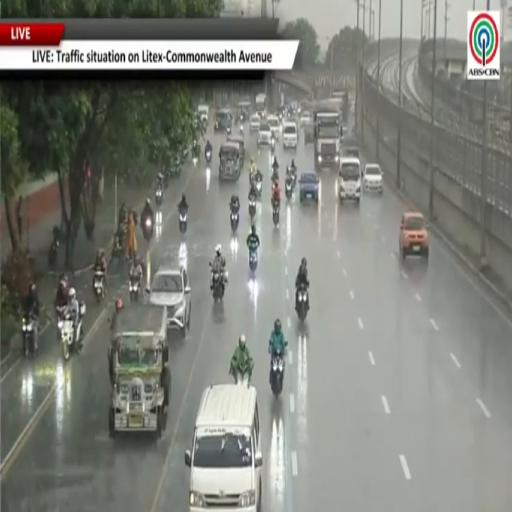car: (185, 383, 264, 511), (150, 266, 191, 337), (399, 212, 428, 260), (338, 158, 362, 204), (299, 171, 319, 203), (363, 164, 383, 194), (283, 122, 297, 149), (258, 121, 272, 146), (267, 116, 280, 140), (304, 125, 314, 144), (250, 114, 260, 133), (300, 110, 311, 125)
jeepney: (109, 303, 170, 437), (219, 142, 241, 180), (227, 135, 245, 166), (215, 108, 232, 132), (237, 102, 251, 122)
motorcycle: (60, 302, 85, 361), (270, 350, 284, 397), (22, 315, 37, 357), (230, 359, 252, 387), (296, 284, 308, 321), (212, 270, 224, 302), (93, 268, 104, 301), (111, 234, 124, 261), (48, 239, 59, 270), (56, 306, 66, 339), (143, 216, 154, 242), (129, 276, 140, 301), (233, 371, 250, 387), (230, 210, 239, 234), (272, 203, 280, 227), (179, 211, 187, 234), (249, 250, 257, 273), (155, 186, 163, 207), (285, 179, 293, 200), (192, 139, 200, 159), (255, 175, 261, 197), (249, 199, 255, 219), (271, 167, 278, 184), (290, 168, 296, 187), (201, 118, 208, 134), (206, 150, 211, 164), (271, 137, 275, 153), (226, 125, 231, 135), (240, 125, 244, 135)
truck: (313, 104, 341, 170), (331, 89, 348, 122), (255, 93, 267, 118)
